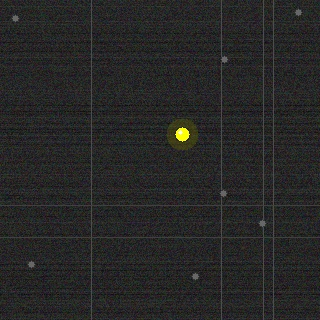yellow_warning: (173, 125, 191, 143)
